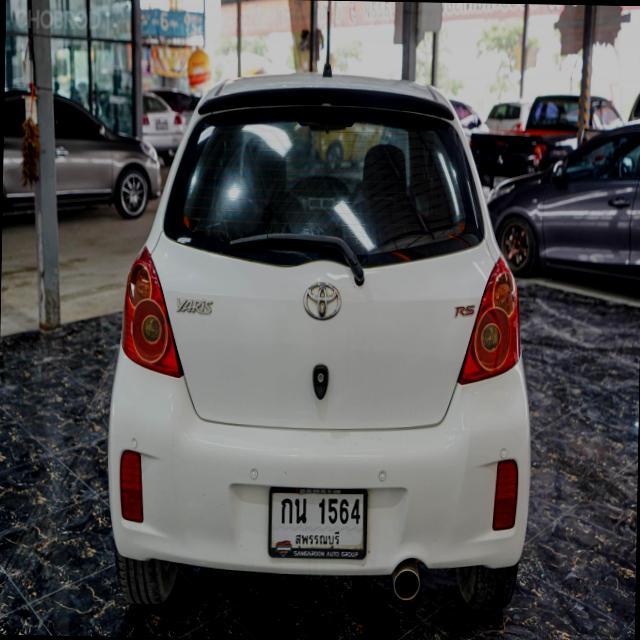license_plate: (266, 484, 368, 562)
